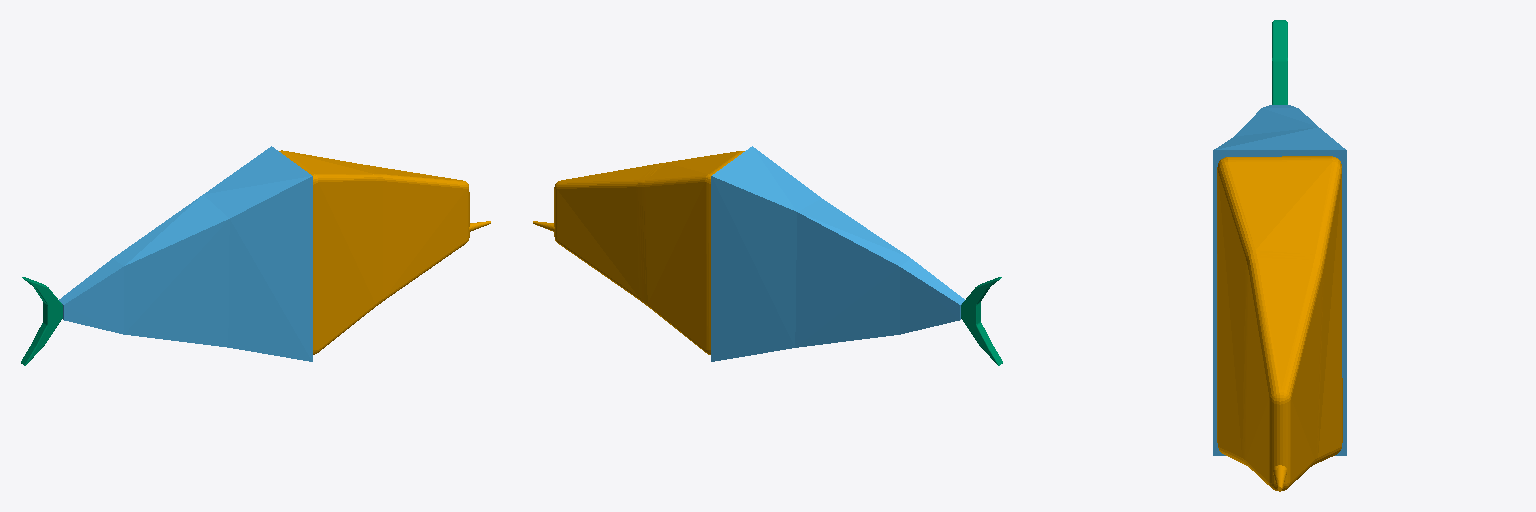
URDF robot description (fish6):
<?xml version="1.0" ?>
<!-- =================================================================================== -->
<!-- |    This document was autogenerated by xacro from Fish1.xacro                    | -->
<!-- |    EDITING THIS FILE BY HAND IS NOT RECOMMENDED                                 | -->
<!-- =================================================================================== -->
<robot name="fish6" xmlns:xacro="http://www.ros.org/wiki/xacro">
  <link name="base_link">
    <visual>
      <origin rpy="0 0 0" xyz="0 0 0"/>
      <geometry>
        <mesh filename="package://uwsim_models/uwsim_fish_urdf/Fish_models/Fish6_1.dae"/>
      </geometry>
    </visual>
  </link>

  <link name="body">
    <visual>
      <origin rpy="0 0 0" xyz="0 0 0"/>
      <geometry>
        <mesh filename="package://uwsim_models/uwsim_fish_urdf/Fish_models/Fish6_2.dae"/>
      </geometry>
    </visual>
  </link>

  <joint name="Slew" type="revolute">
    <parent link="base_link"/>
    <child link="body"/>
    <axis xyz="0 0 1"/>
    <origin rpy="0 0 0" xyz="0 0 0"/>
    <limit effort="1000.0" lower="-0.5" upper="0.5" velocity="1.0"/>
  </joint>

  <link name="tail">
    <visual>
      <origin rpy="0 0 0" xyz="0 0 0"/>
      <geometry>
        <mesh filename="package://uwsim_models/uwsim_fish_urdf/Fish_models/Fish6_Tail.dae"/>
      </geometry>
    </visual>
  </link>

  <joint name="Shoulder" type="revolute">
    <parent link="body"/>
    <child link="tail"/>
    <axis xyz="0 0 1"/>
    <origin rpy="0 0 0" xyz="-2.04 0 0"/>
    <limit effort="1000.0" lower="-0.5" upper="0.5" velocity="1.0"/>
  </joint>

</robot>

--- What the picture shows (computed from the rendered views, not written in the file) ---
3 views of the same robot in one strip: view 1: azimuth 30°, elevation 25°; view 2: azimuth 150°, elevation 25°; view 3: azimuth 270°, elevation 25° (orthographic).
Model fish6 with 3 links and 2 joints (2 revolute), rooted at base_link, posed every joint at zero.
Links seen in each view (by area): view 1: body, base_link, tail; view 2: body, base_link, tail; view 3: base_link, body, tail.
Link boxes in pixels (<box>): body: <box>59,146,312,361</box>; base_link: <box>279,150,490,354</box>; tail: <box>21,277,62,365</box>; body: <box>711,146,964,361</box>; base_link: <box>533,151,744,354</box>; tail: <box>961,277,1002,365</box>; base_link: <box>1217,156,1342,491</box>; body: <box>1213,105,1346,455</box>; tail: <box>1272,20,1287,104</box>.
Bounding box of the posed robot: 4.11 × 0.6215 × 1.56 m (x, y, z).
Meshes: 3 distinct files referenced, 3 mesh visuals loaded (3 Collada DAE).